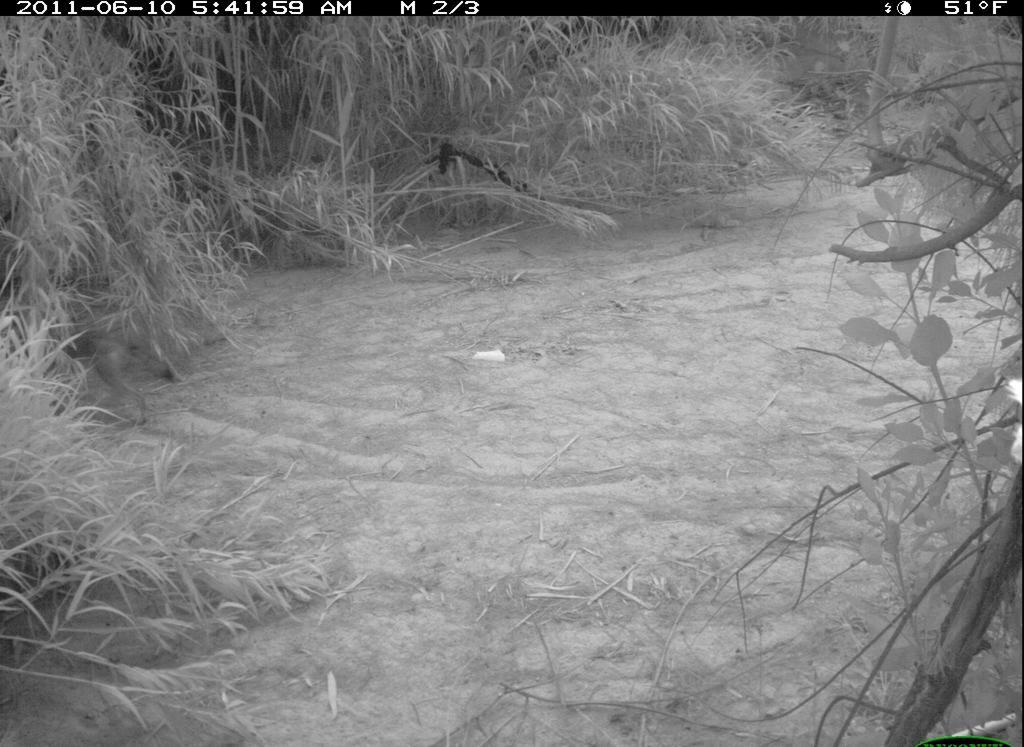coyote: (34, 263, 196, 432)
